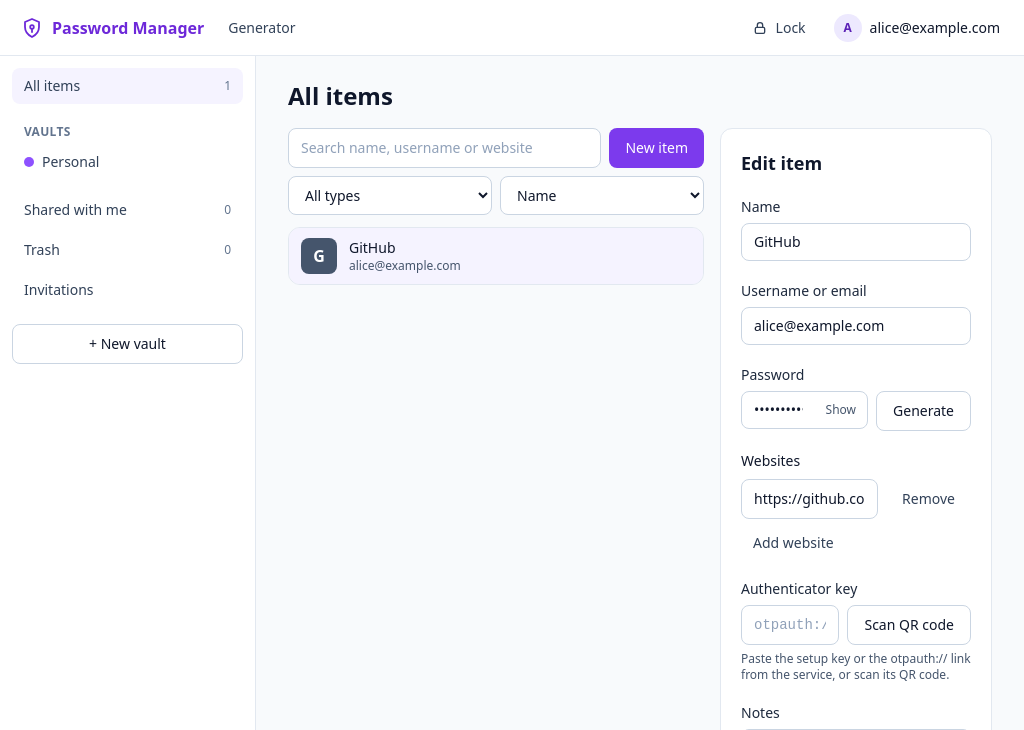
Test case: edit item › can discard the edits and load the latest version after a conflict
Replace the text in the field labelled "Name" with "My edit": coordinates (856, 242) [741,223,971,261]
(page scrolled)
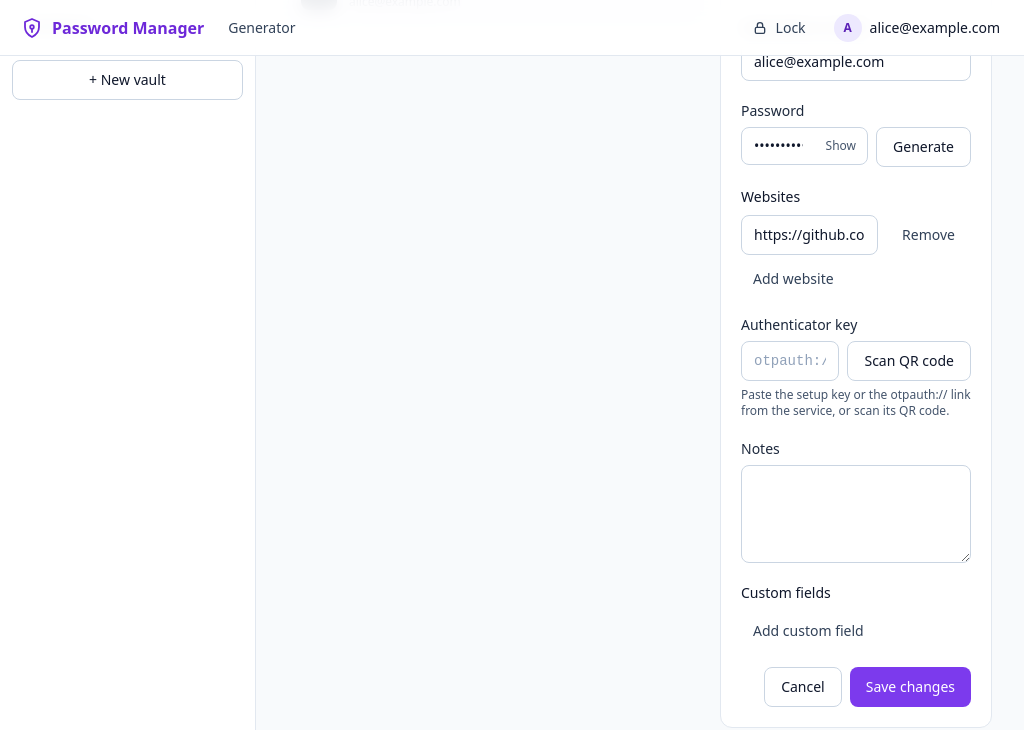
Click the button "Save changes": coordinates (910, 687) [850,667,971,707]
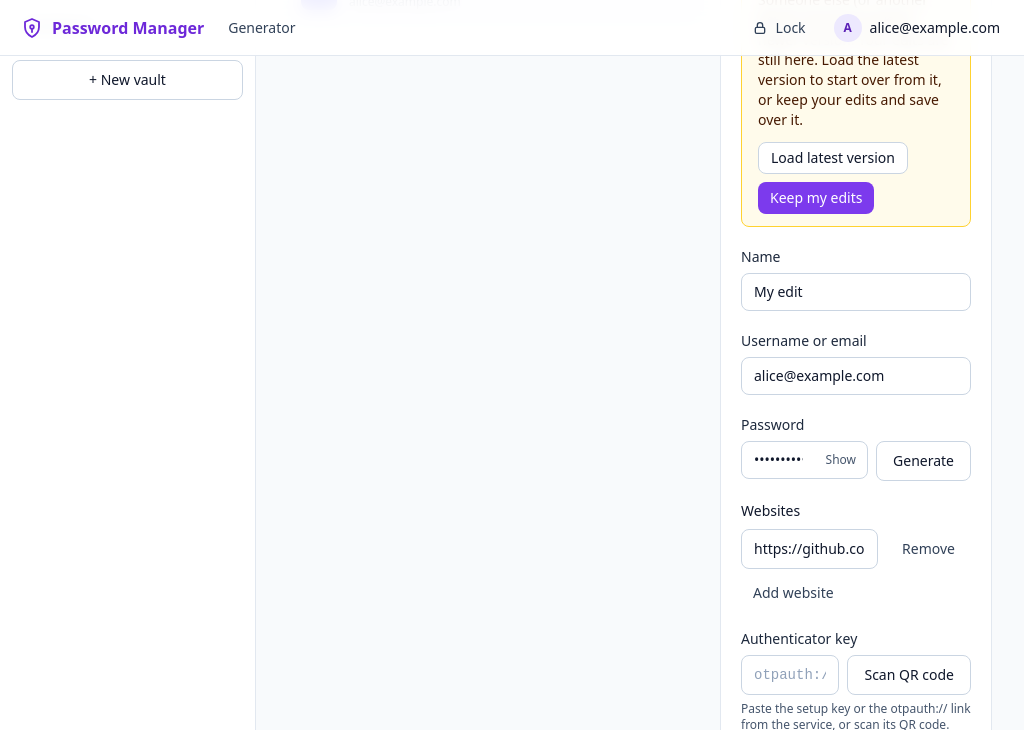
Click the button "Load latest version": coordinates (833, 158) [758,142,908,174]
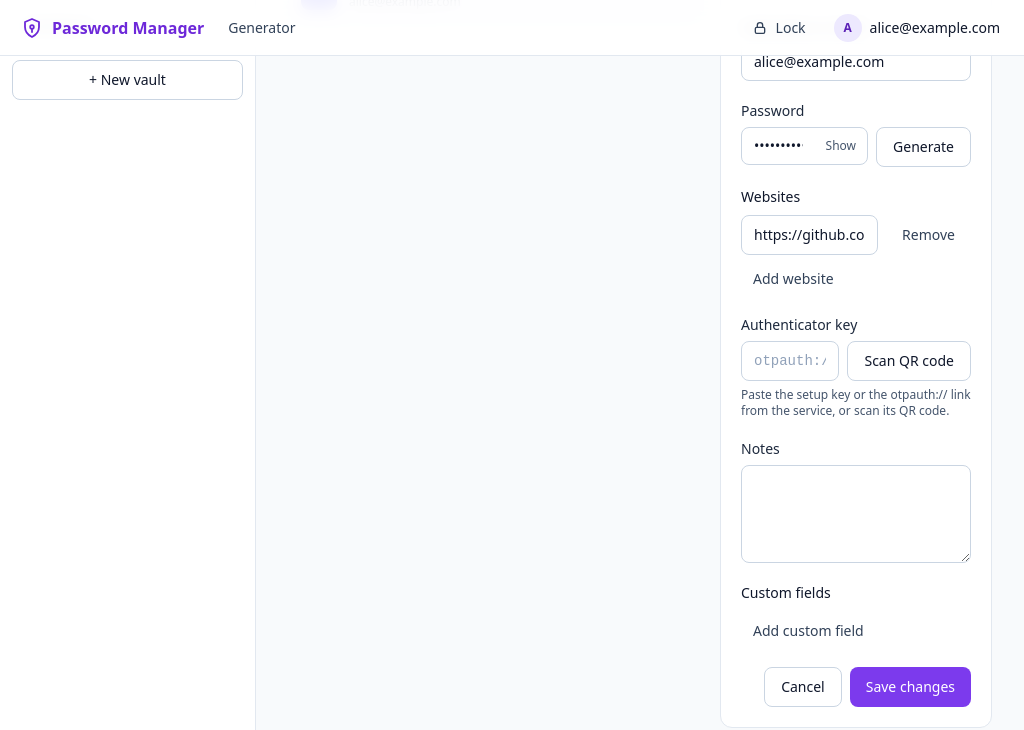
Expected: the button "Save changes" is enabled, [850,667,971,707]
